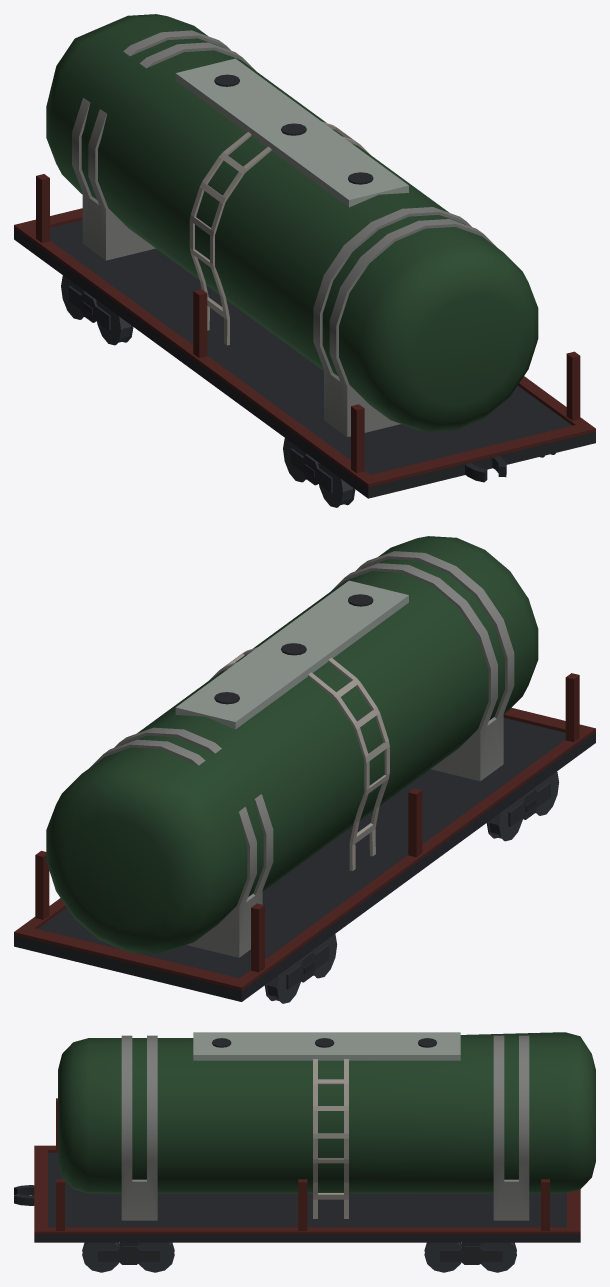
Rendered from Wagon_2.fbx.
3 views of the same model, one above another, from view 1: azimuth 30°, elevation 25°; view 2: azimuth 150°, elevation 25°; view 3: azimuth 270°, elevation 25° (orthographic). The views are drawn at different scales.
Parts seen in each view (by area): view 1: Wagon_2; view 2: Wagon_2; view 3: Wagon_2.
Part boxes in pixels (box(x1,y1,x2,y2)): Wagon_2: box(14, 14, 595, 507); Wagon_2: box(14, 536, 595, 1003); Wagon_2: box(14, 1032, 595, 1272).
Bounding box in the file's own units: 231 × 237 × 662.
